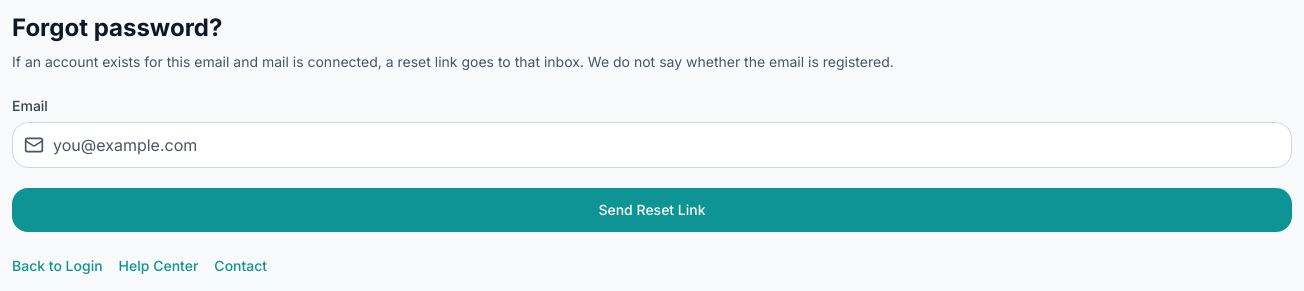
Test: ForgotPasswordPage HTTP › posts forgot and does not show the demo OTP
The width and height of the screenshot is (1304, 291).
In the field labelled "Email": (652, 145) [12,122,1292,168], type "anyone@example.com"
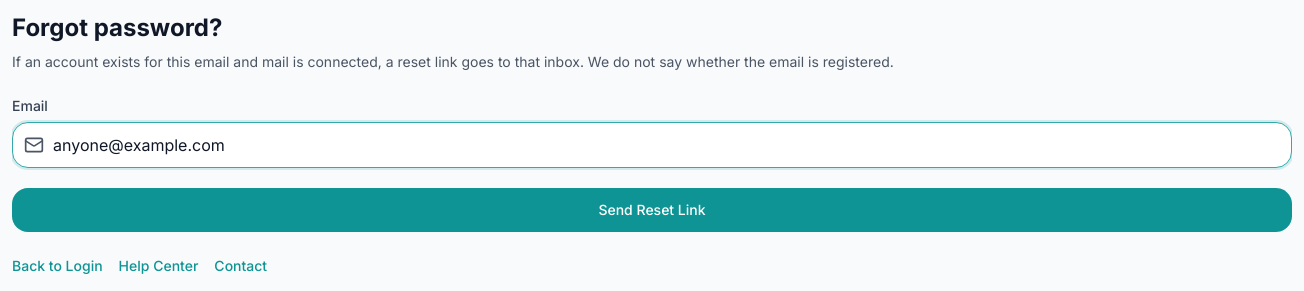
Click the button "Send Reset Link": click(652, 210) [12,188,1292,232]
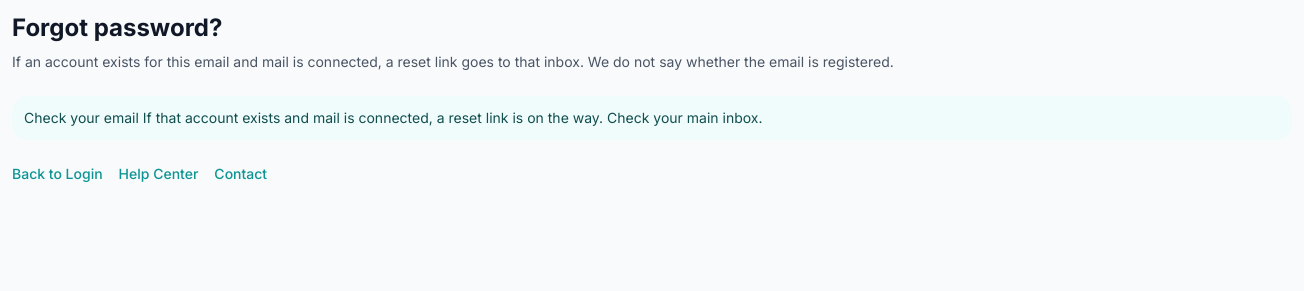
Expected: the text "If that account exists" is shown, [143,109,763,126]
